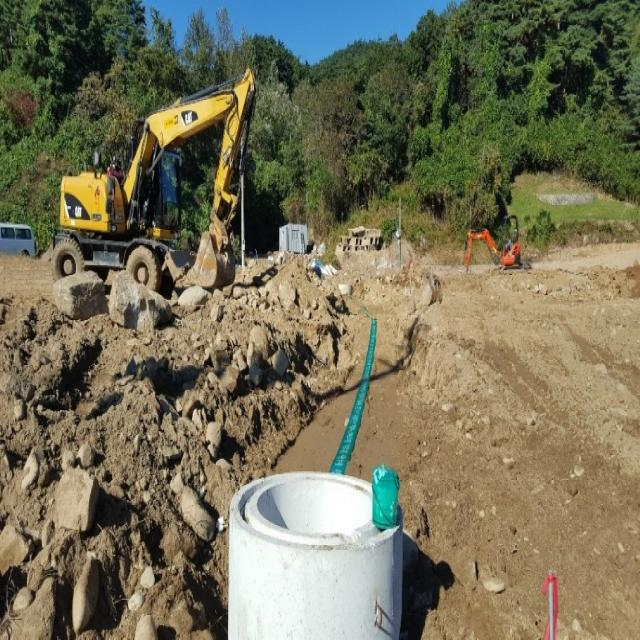excavator: (52, 68, 256, 292), (463, 215, 522, 268)
